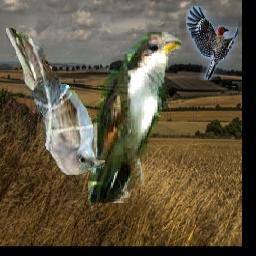Cuckoo: (89, 33, 182, 204), (7, 28, 106, 175)
Woodpecker: (186, 7, 238, 81)
